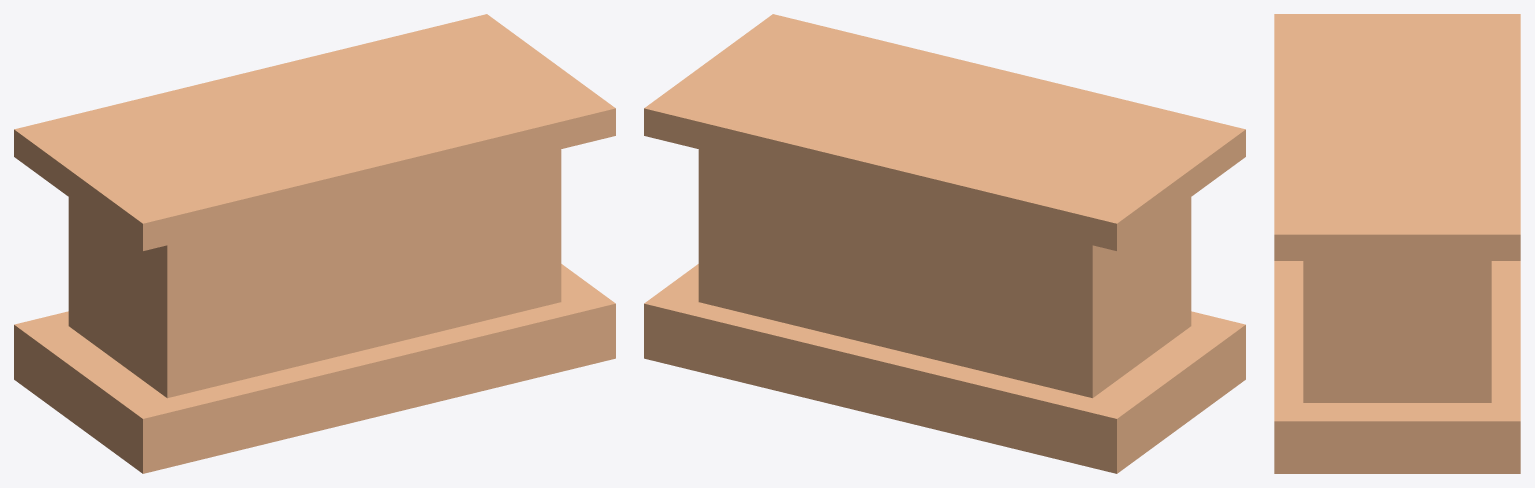
The picture shows the model from 3 angles, left to right: view 1: azimuth 30°, elevation 25°; view 2: azimuth 150°, elevation 25°; view 3: azimuth 270°, elevation 25°; orthographic projection. The views are drawn at different scales.
Visible parts, largest first — view 1: Top, Altar, Base; view 2: Top, Altar, Base; view 3: Top, Altar, Base.
Boxes of the visible parts, x1,y1,x2,y2 form: Top: (14,14,615,250); Altar: (68,149,561,398); Base: (14,264,615,473); Top: (644,14,1245,250); Altar: (698,149,1191,398); Base: (644,264,1245,473); Top: (1274,14,1520,260); Altar: (1303,261,1491,402); Base: (1274,261,1520,473).
Bounding box in the file's own units: 180 × 91 × 85.
